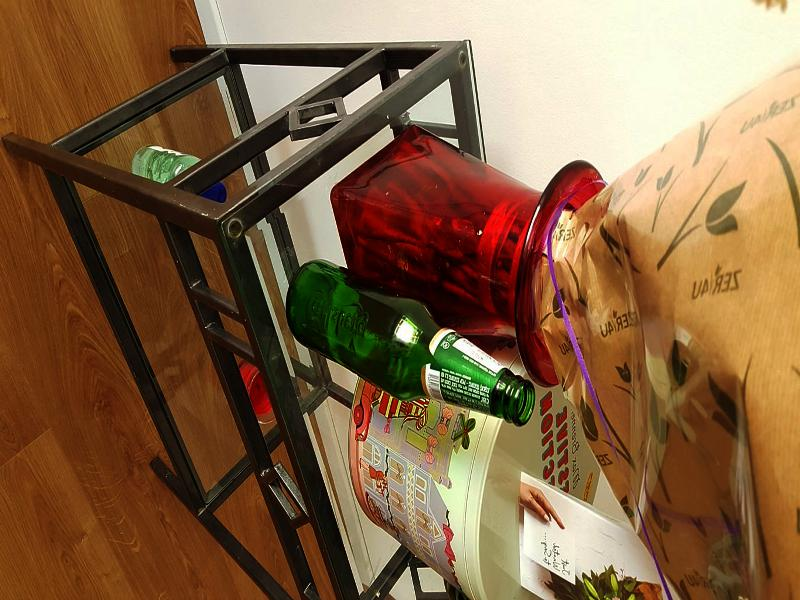Beer: (286, 259, 535, 423)
